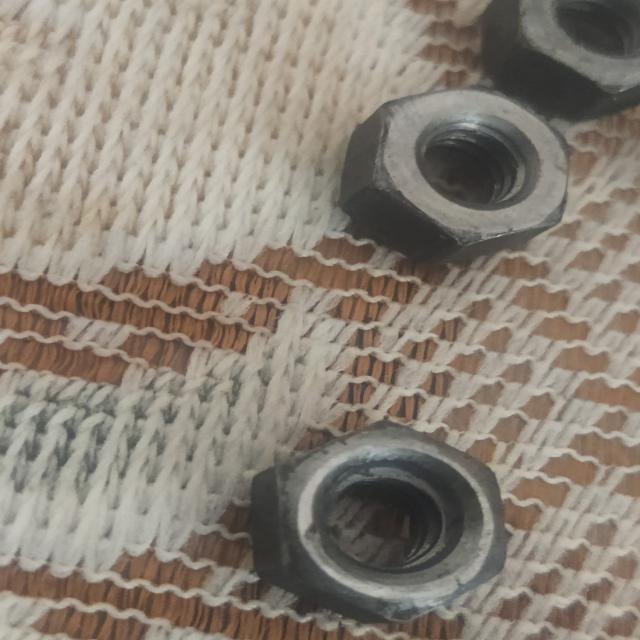disinfected nut: (340, 0, 640, 260), (253, 422, 507, 622), (340, 90, 567, 262)
